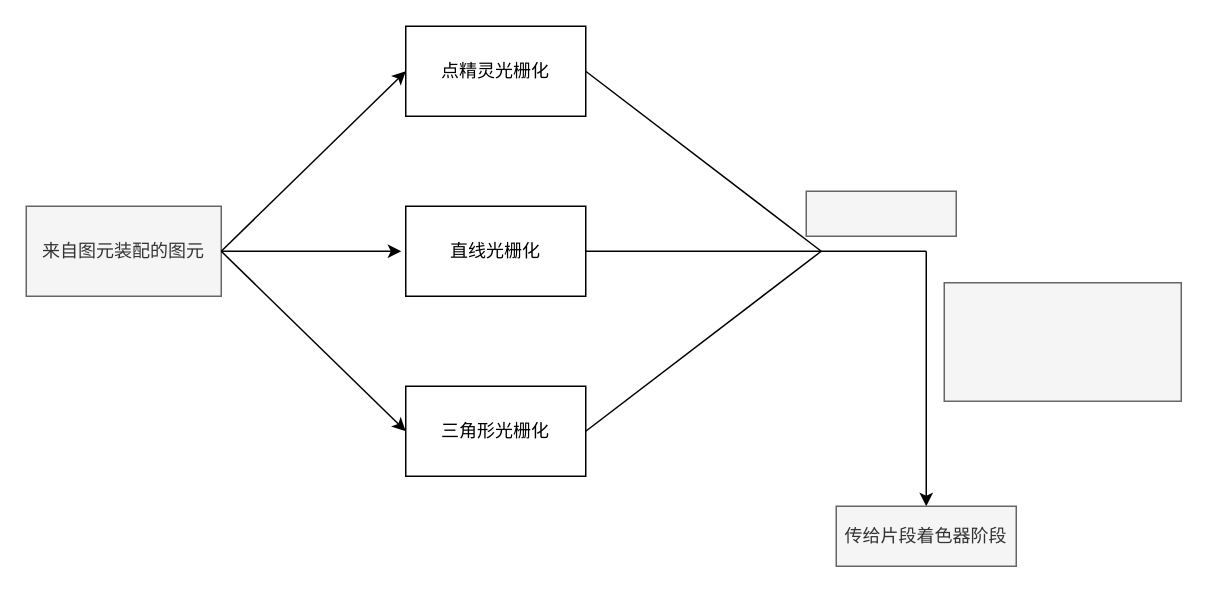
This 1208x593 diagram has some shape labels left out. Here are the shapes that lost their labels. From the top down, the box of each, then its label:
(805, 190, 956, 236): 转换为二维片段
(943, 281, 1181, 401): 每个片段的输出： 屏幕坐标（Xw,Yw）、 颜色的属性， 纹理坐标等
